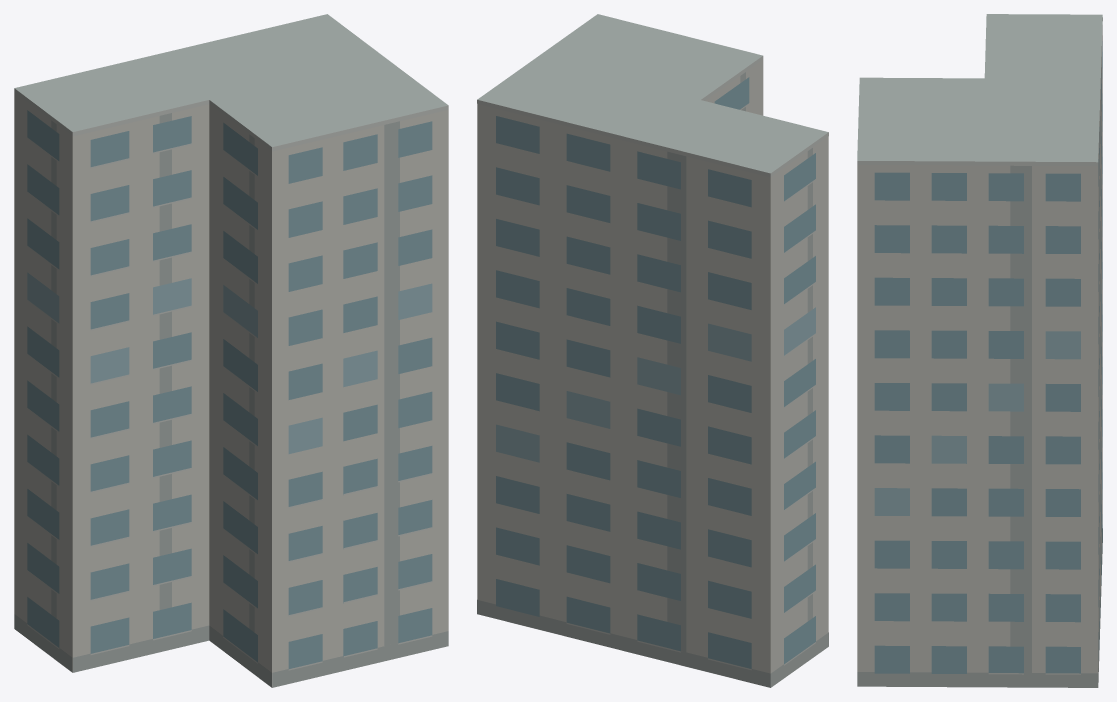
The model's file is residential-daa20b28-eaf9-446c-82e9-1e54369df196.glb.
3 renders of one model, left to right at view 1: azimuth 30°, elevation 25°; view 2: azimuth 150°, elevation 25°; view 3: azimuth 270°, elevation 25°, orthographic. The views are drawn at different scales.
Parts seen in each view (by area): view 1: residential-daa20b28-eaf9-446c-82e9-1e54369df196.tmp; view 2: residential-daa20b28-eaf9-446c-82e9-1e54369df196.tmp; view 3: residential-daa20b28-eaf9-446c-82e9-1e54369df196.tmp.
Part boxes in pixels (<box>): residential-daa20b28-eaf9-446c-82e9-1e54369df196.tmp: <box>14,14,448,687</box>; residential-daa20b28-eaf9-446c-82e9-1e54369df196.tmp: <box>477,14,828,687</box>; residential-daa20b28-eaf9-446c-82e9-1e54369df196.tmp: <box>857,14,1102,687</box>.
Bounding box in the file's own units: 18.74 × 31 × 13.14.
